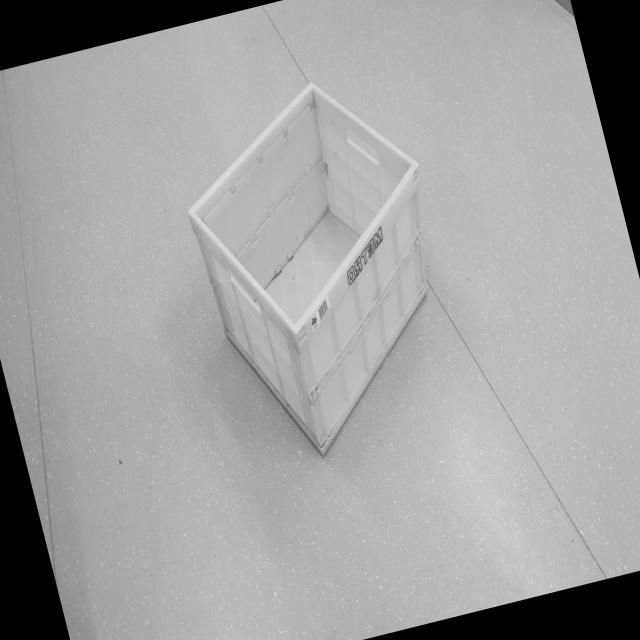box: (156, 52, 490, 480)
